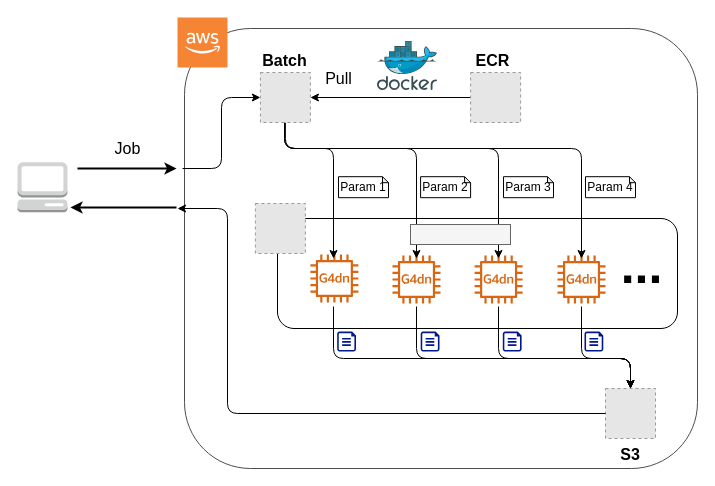
The diagram is 715 pixels wide and 486 high, and some of its shapes have lost their labels. Grey dashed boxes stand in for pictures. Each missing label, with the centre of its shape:
"Client" goes at point (42, 186).
"EC2 cluster" goes at point (460, 234).
